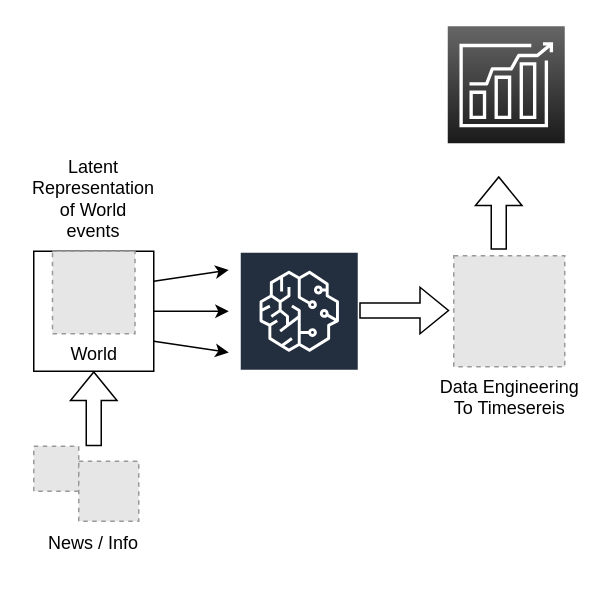
Some shapes in this 615 by 593 pixel diagram are drawn without their labels. Grey dashed boxes stand in for pictures. The centre of each missing label's shape, as x and y in pixels:
Forecasting DeepAR: point 505,84
NLP Topic Extraction: point 298,333
